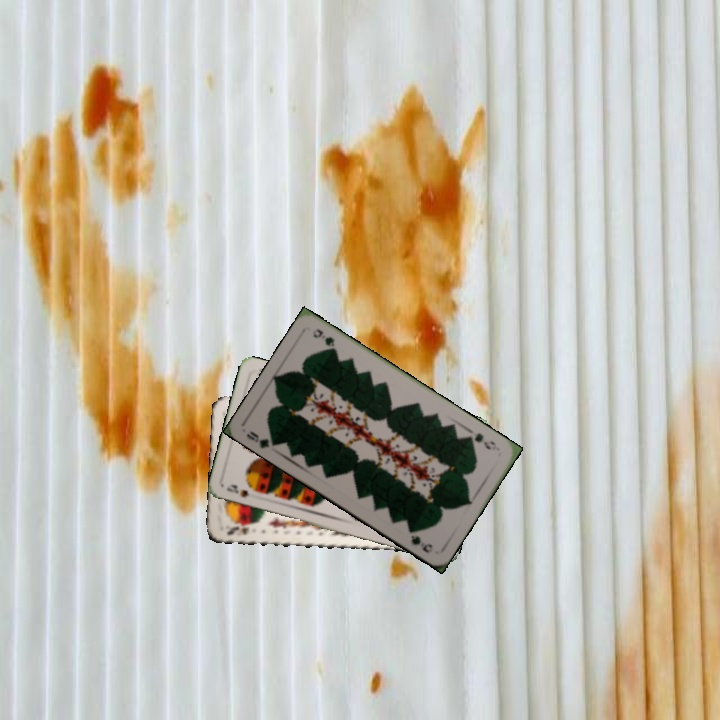G9: (242, 427, 281, 451), (463, 429, 500, 453)
S9: (222, 480, 253, 500)
SK: (223, 519, 257, 538)
